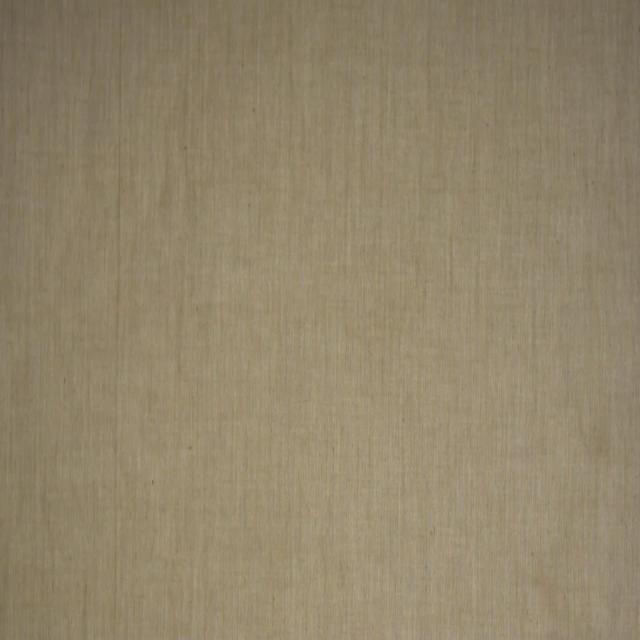dirty: (590, 437, 610, 457)
